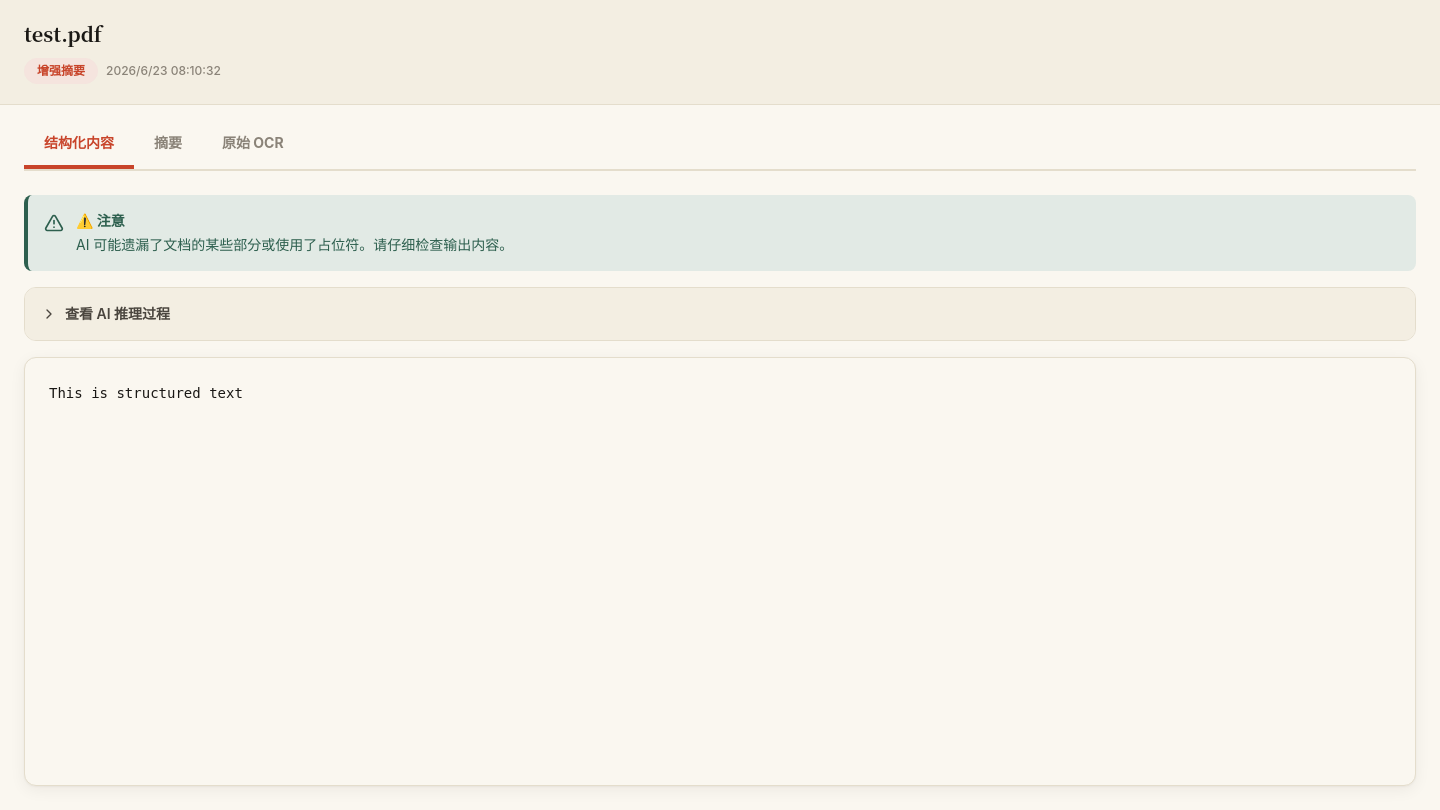
Test: ResultDetail › toggles thoughts visibility
Check: the text "查看 AI 推理过程" is shown, box [41,304,170,324]
Check: the text "These are structured thoughts" is not shown
Click to show
What coordinates should you click on to do the following:
click the button "查看 AI 推理过程"
I would click on:
 (118, 314)
Its box is [25,288,1415,340].
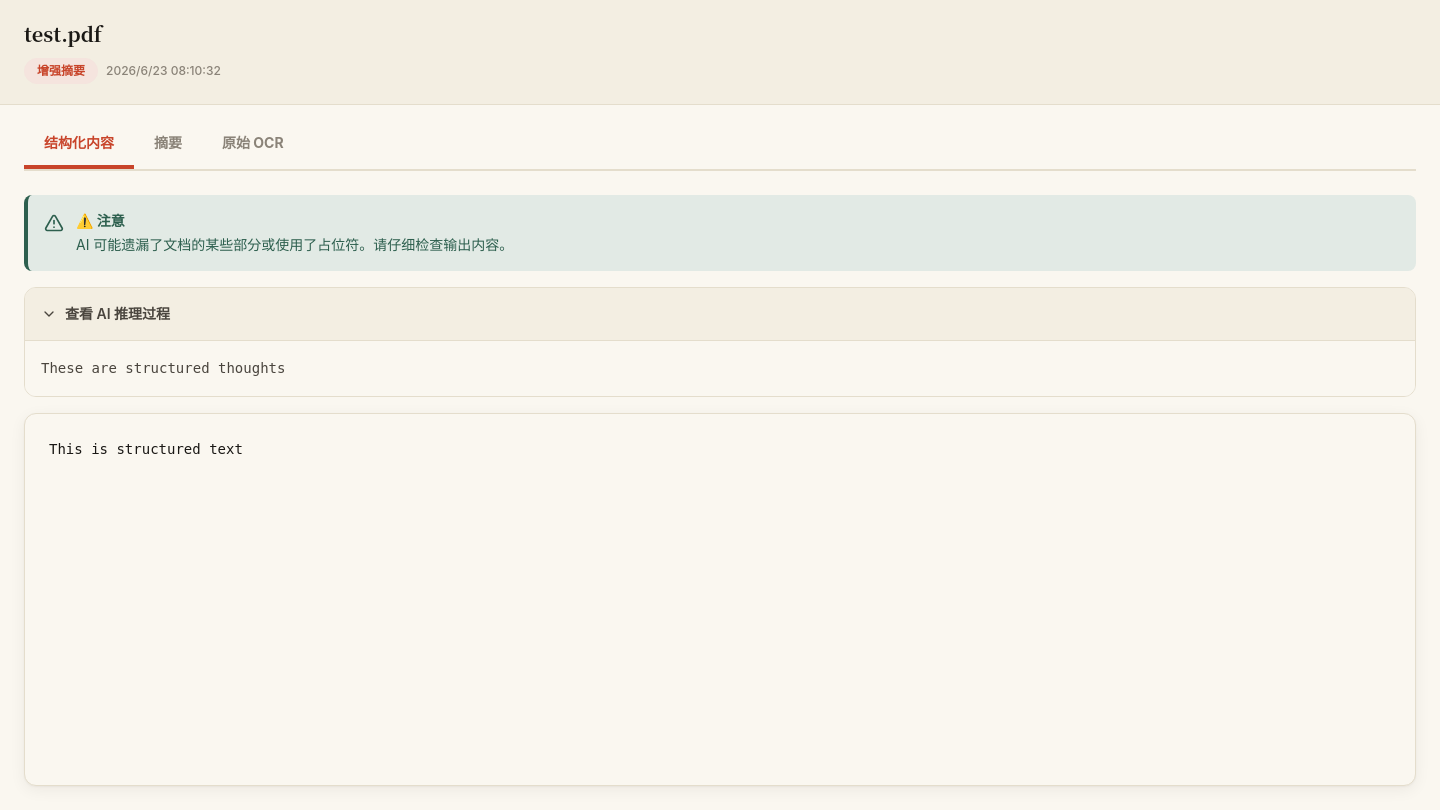
Check: the text "These are structured thoughts" is shown, box [25,340,1415,396]
Click to hide
What coordinates should you click on to do the following:
click the button "查看 AI 推理过程"
I would click on:
 (118, 314)
Its box is [25,288,1415,340].
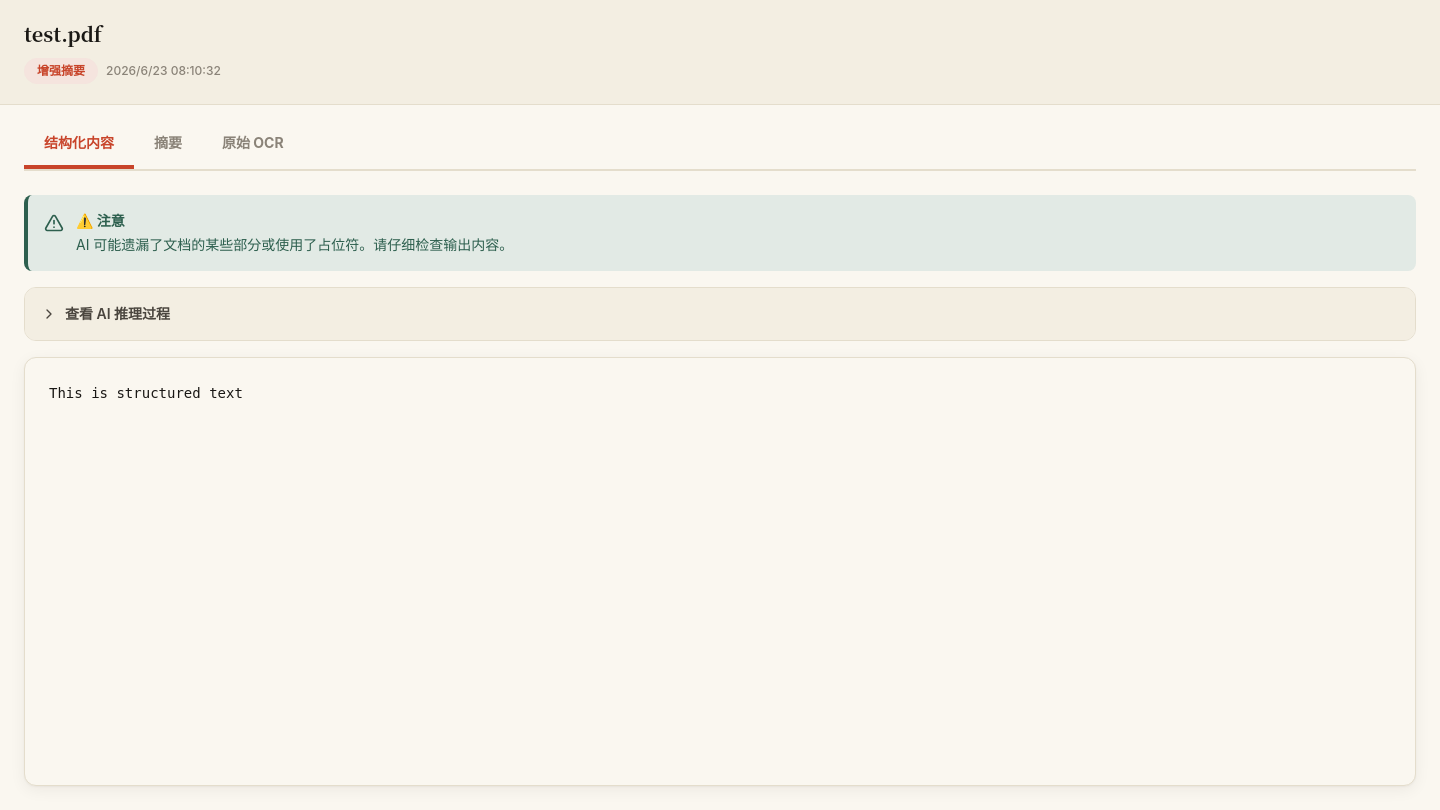
Check: the text "These are structured thoughts" is gone
